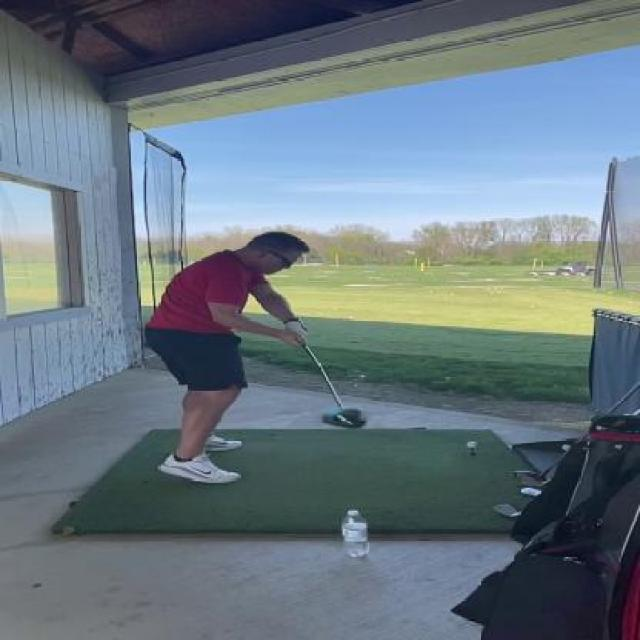club head: (318, 404, 370, 433)
